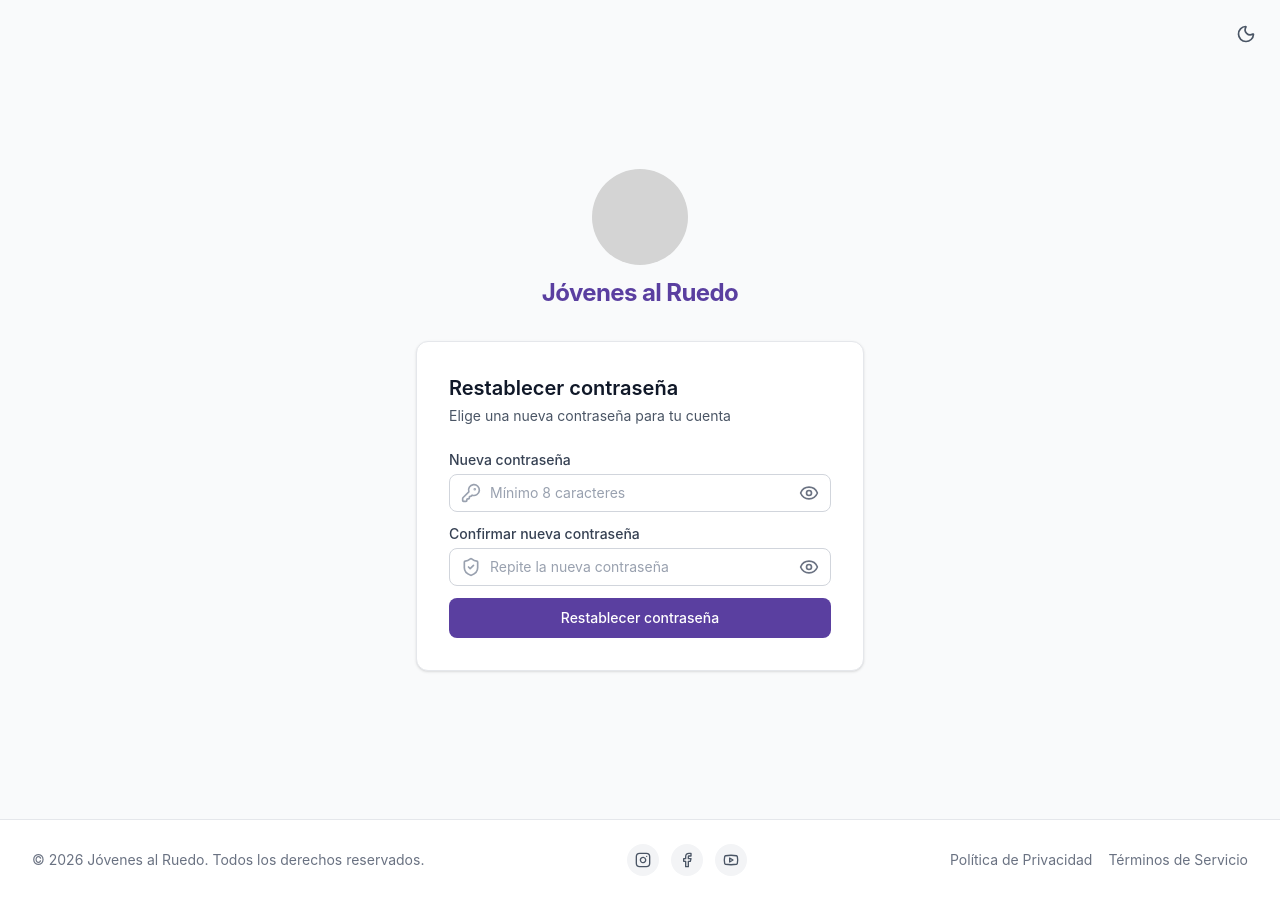
Test case: ResetPasswordPage › muestra error si la nueva contraseña es muy corta
The image size is (1280, 900).
Type "Aa1" into the password field labelled "Nueva contraseña" at (640, 492), box [449,474,831,512]
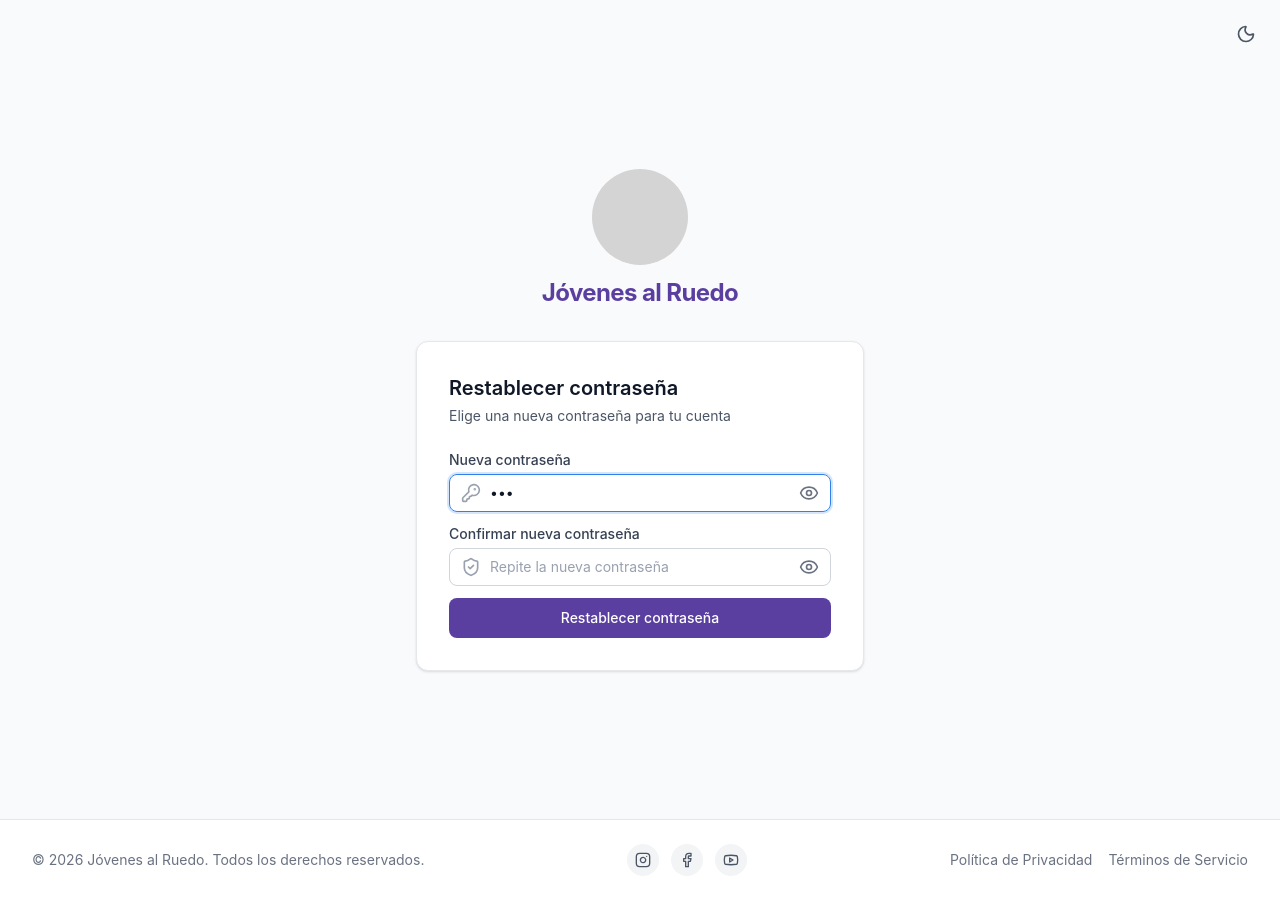
Type "Aa1" into the password field labelled "Confirmar nueva contraseña" at (640, 566), box [449,548,831,586]
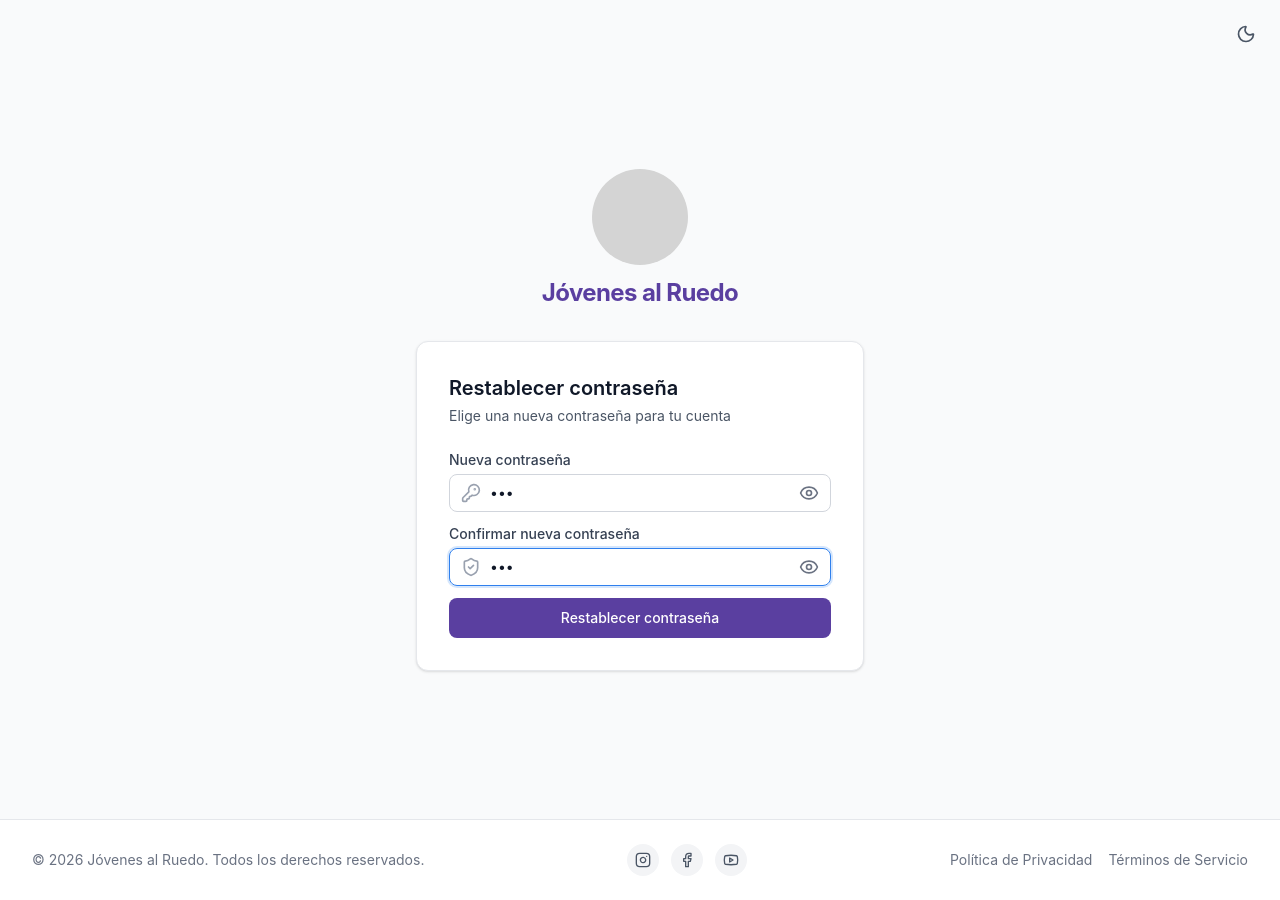
Click the button "Restablecer contraseña" at (640, 618), box [449,598,831,638]
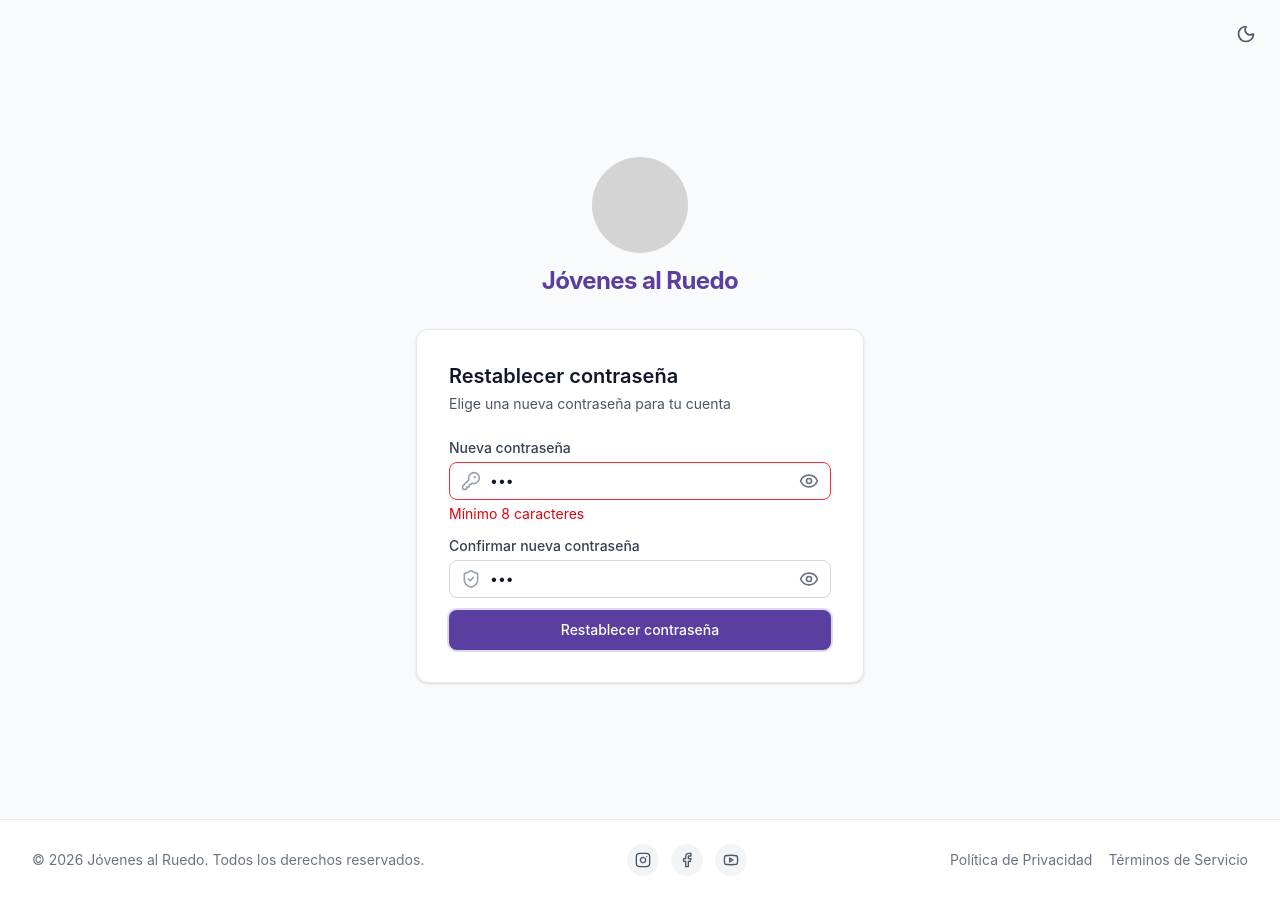
Expected: the text "Mínimo 8 caracteres" is shown, [449,504,584,522]
